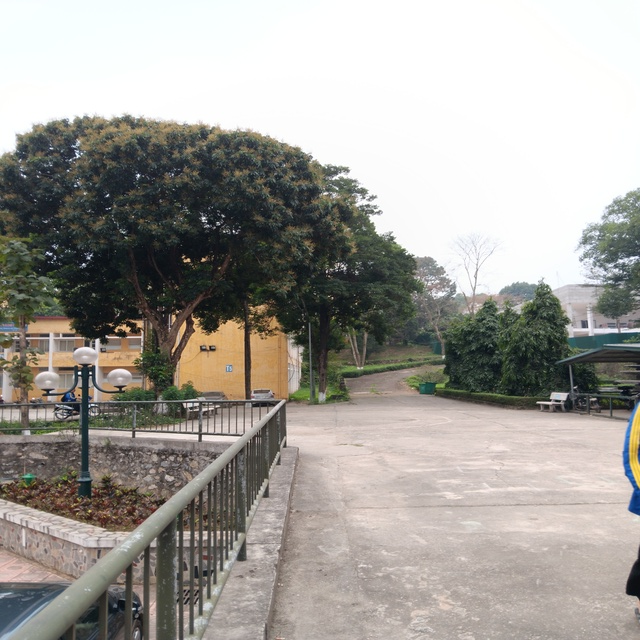cotden: (38, 341, 137, 513)
